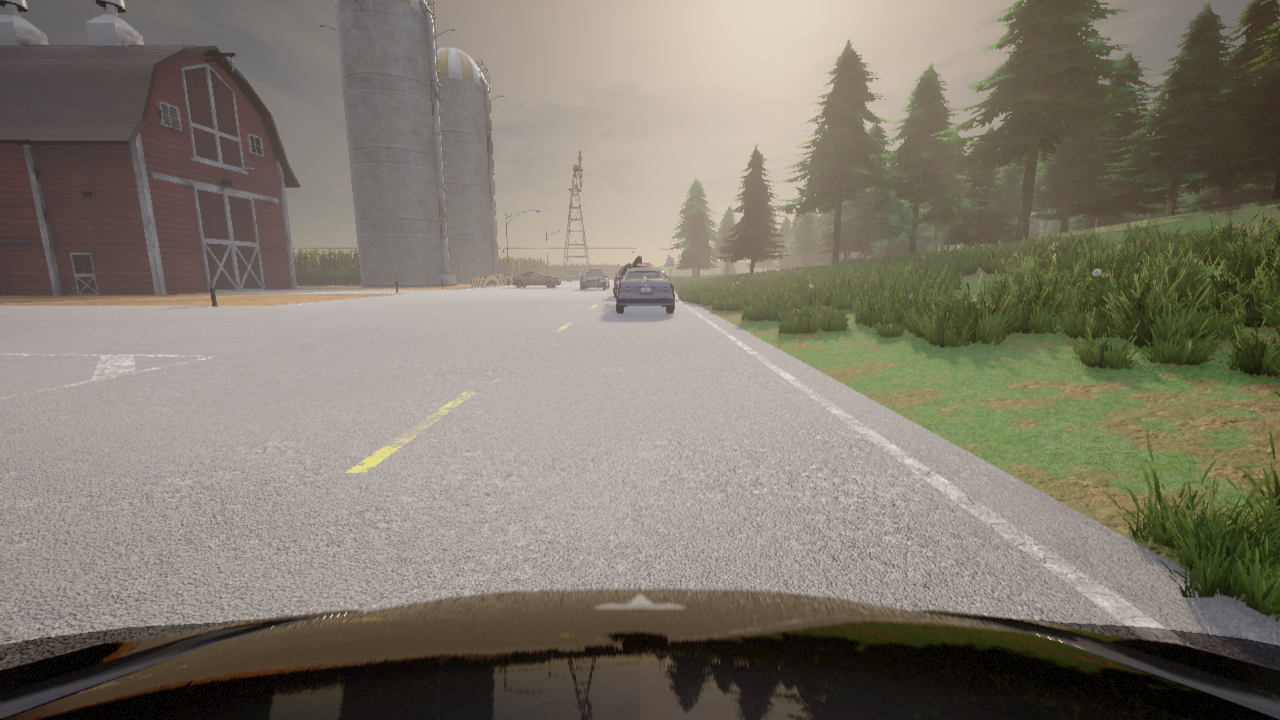cyclist: (0, 588, 1279, 719), (616, 268, 674, 312), (613, 265, 646, 297), (512, 272, 560, 287), (617, 256, 645, 277), (580, 269, 609, 289), (565, 271, 584, 281), (642, 262, 650, 267), (568, 270, 574, 271)
